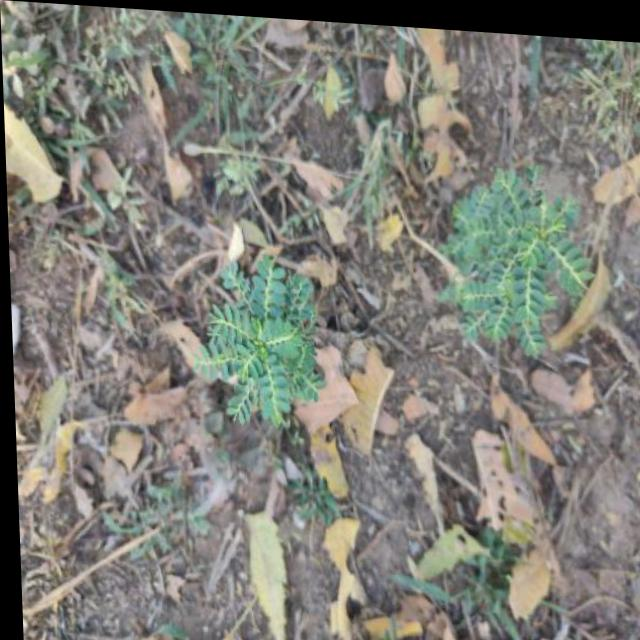weed: (431, 141, 600, 361), (196, 242, 342, 434)
